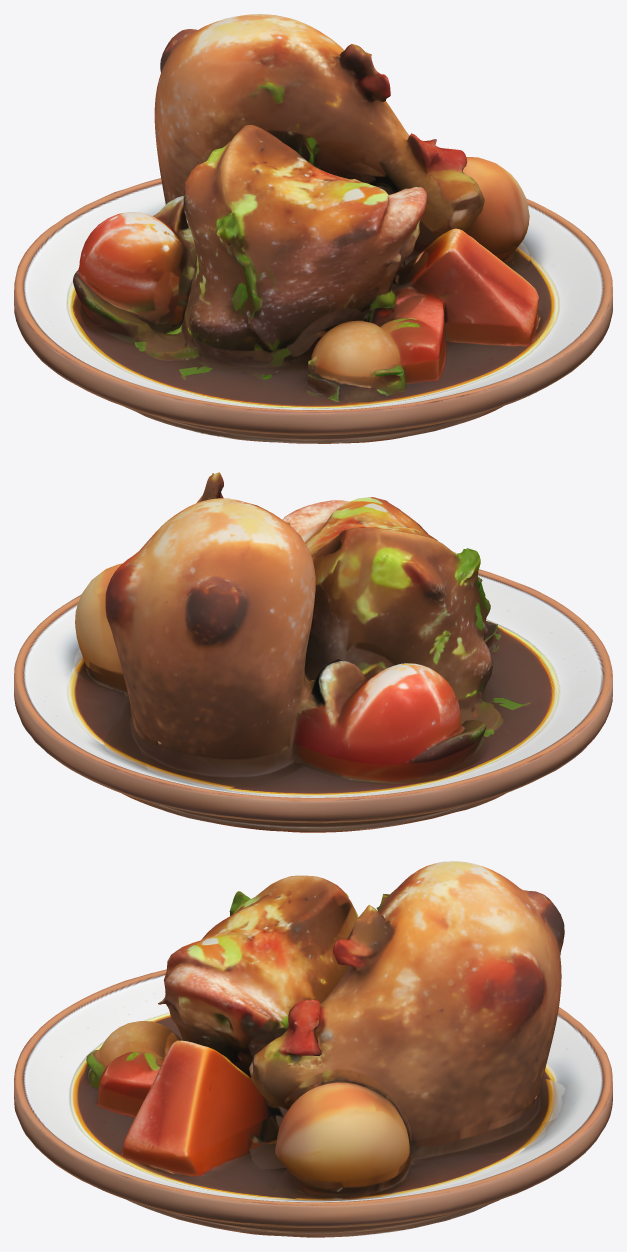
File: con_11.glb
3 views of the same model, one above another, from view 1: azimuth 30°, elevation 25°; view 2: azimuth 150°, elevation 25°; view 3: azimuth 270°, elevation 25° (orthographic).
Parts seen in each view (by area): view 1: model; view 2: model; view 3: model.
Part boxes in pixels (x1=…): model: x1=14, y1=14, x2=612, y2=443; model: x1=14, y1=472, x2=612, y2=832; model: x1=14, y1=861, x2=612, y2=1237.
Size of the model in its own units: 1.9 by 0.9308 by 1.9.
Materials: 1 (1 with a texture image).
